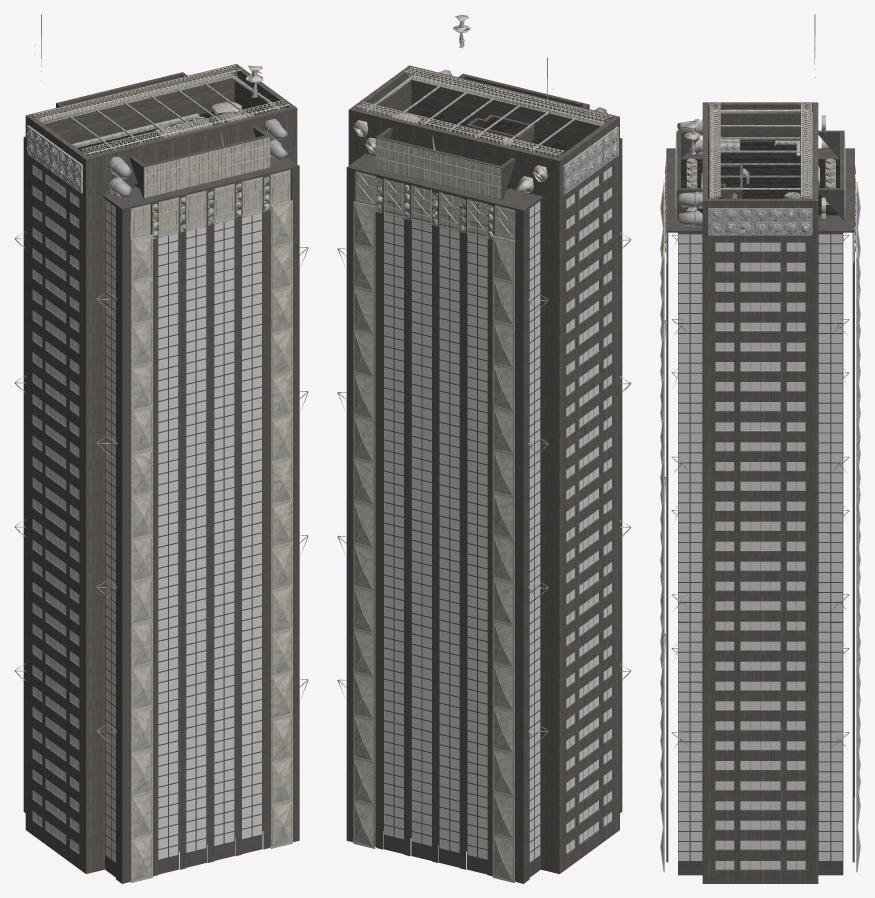
The model's file is KB3D_NEC_BldgLG_B_Main.glb.
The picture shows the model from 3 angles, left to right: view 1: azimuth 30°, elevation 25°; view 2: azimuth 150°, elevation 25°; view 3: azimuth 270°, elevation 25°; orthographic projection. The views are drawn at different scales.
Parts seen in each view (by area): view 1: KB3D_NEC_BldgLG_B_Main; view 2: KB3D_NEC_BldgLG_B_Main; view 3: KB3D_NEC_BldgLG_B_Main.
Part boxes in pixels (bbox=[...]): KB3D_NEC_BldgLG_B_Main: bbox=[14, 14, 308, 883]; KB3D_NEC_BldgLG_B_Main: bbox=[337, 14, 631, 883]; KB3D_NEC_BldgLG_B_Main: bbox=[660, 14, 860, 883].
Bounding box in the file's own units: 54.56 × 195 × 45.38.
11 materials, 10 textured.
